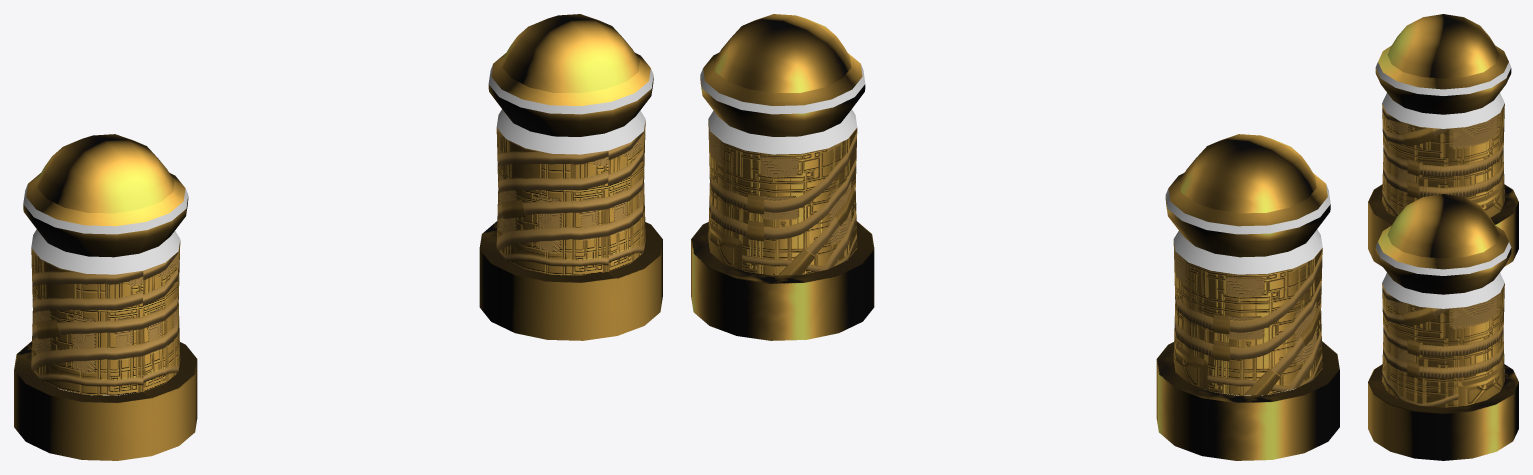
Rendered from fuel3NEW.fbx.
3 renders of one model, left to right at view 1: azimuth 30°, elevation 25°; view 2: azimuth 150°, elevation 25°; view 3: azimuth 270°, elevation 25°, orthographic. The views are drawn at different scales.
Visible parts, largest first — view 1: fuel3, fuel2.3, fuel3Neon; view 2: fuel3, fuel2.3, fuel3Neon; view 3: fuel2.3, fuel3, fuel3Neon.
Boxes of the visible parts, box(x1,y1,x2,y2) form: fuel3: box(14, 134, 197, 460); fuel2.3: box(479, 14, 662, 340); fuel3Neon: box(23, 65, 653, 274); fuel3: box(1156, 134, 1339, 460); fuel2.3: box(691, 14, 874, 340); fuel3Neon: box(700, 65, 1330, 274); fuel2.3: box(1368, 194, 1518, 460); fuel3: box(1368, 14, 1518, 266); fuel3Neon: box(1375, 62, 1511, 308).
Bounding box in the file's own units: 3.3 × 0.846 × 1.45.
